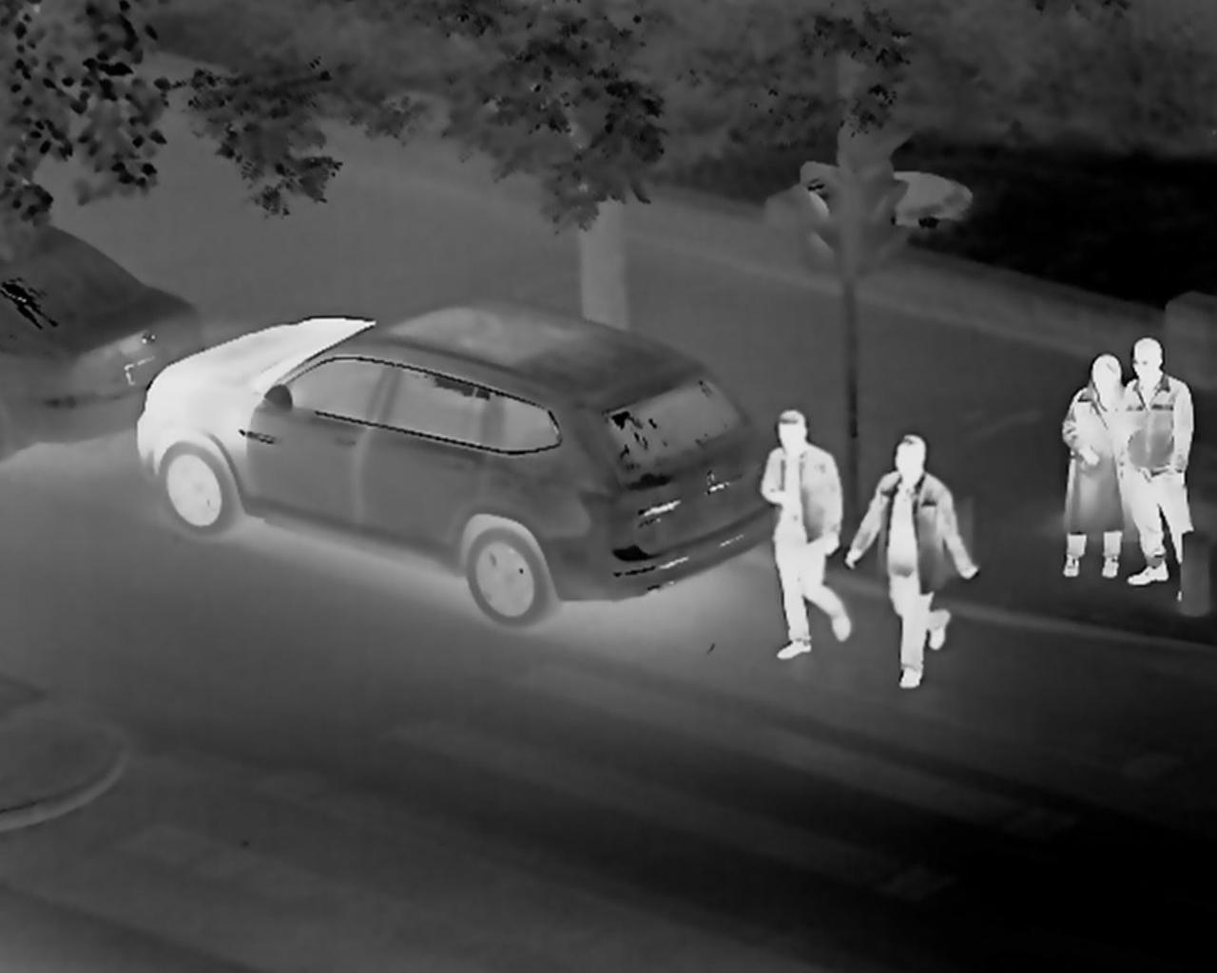person: (870, 428, 984, 682), (758, 409, 860, 664), (1128, 334, 1203, 599), (1059, 342, 1123, 597)
